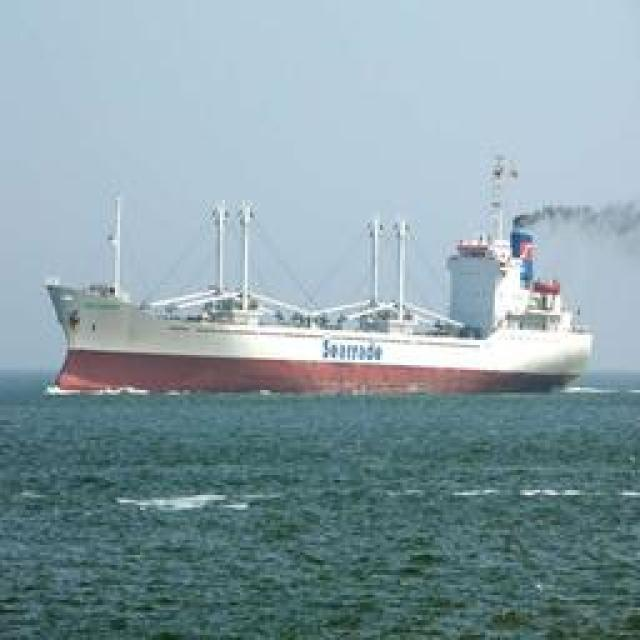CIV_Ship: (29, 198, 594, 402)
